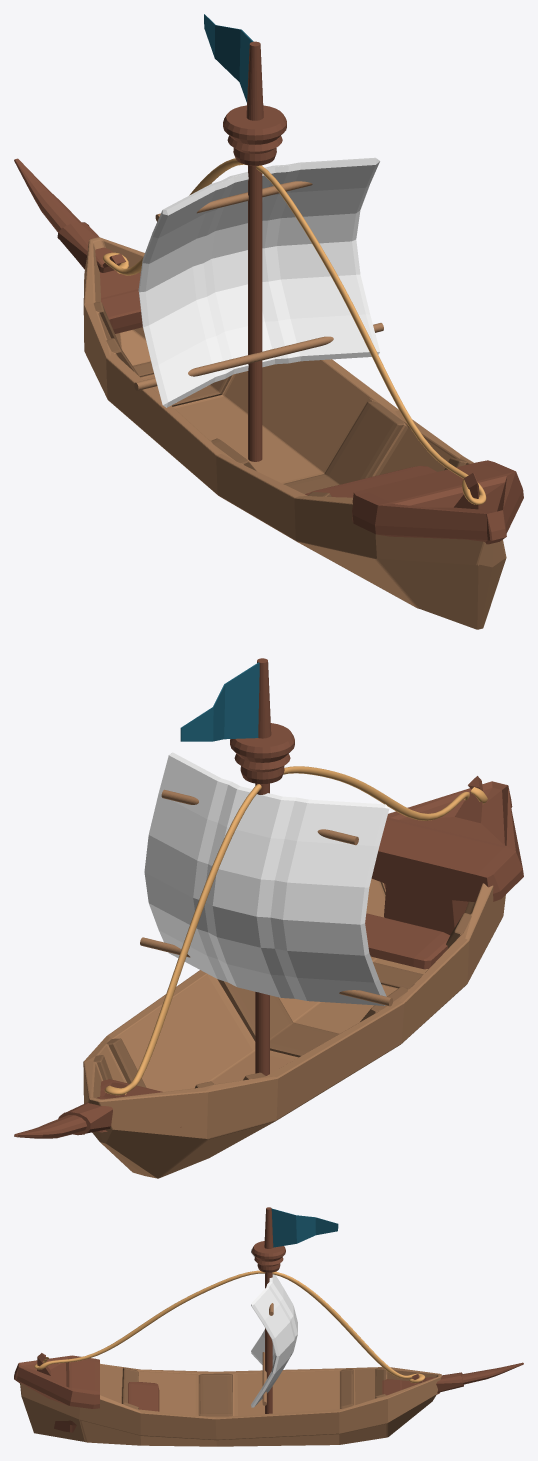
Rendered from port-ship1.fbx.
3 renders of one model, top to bottom at view 1: azimuth 30°, elevation 25°; view 2: azimuth 150°, elevation 25°; view 3: azimuth 270°, elevation 25°, orthographic. The views are drawn at different scales.
Visible parts, largest first — view 1: Cube.258; view 2: Cube.258; view 3: Cube.258.
Part boxes in pixels (box(x1,y1,x2,y2)): Cube.258: box(14, 14, 523, 629); Cube.258: box(14, 658, 523, 1178); Cube.258: box(14, 1207, 523, 1446).
Bounding box in the file's own units: 289 × 498 × 986.
